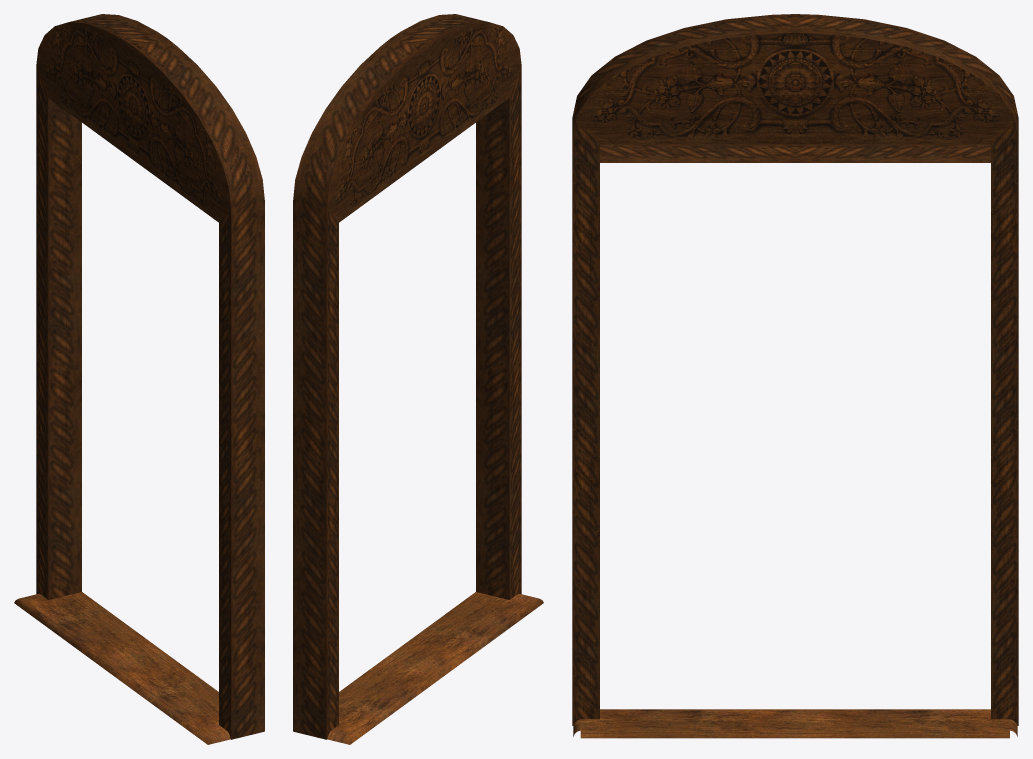
The model's file is wood_panneling_door_frame_01.DAE.
3 views of the same model, side by side, from view 1: azimuth 30°, elevation 25°; view 2: azimuth 150°, elevation 25°; view 3: azimuth 270°, elevation 25° (orthographic). The views are drawn at different scales.
Parts seen in each view (by area): view 1: Box010; view 2: Box010; view 3: Box010.
Boxes of the visible parts, bbox=[...] form: Box010: bbox=[14, 14, 264, 744]; Box010: bbox=[293, 14, 543, 744]; Box010: bbox=[572, 14, 1018, 738].
Bounding box in the file's own units: 0.3344 × 3.52 × 2.
